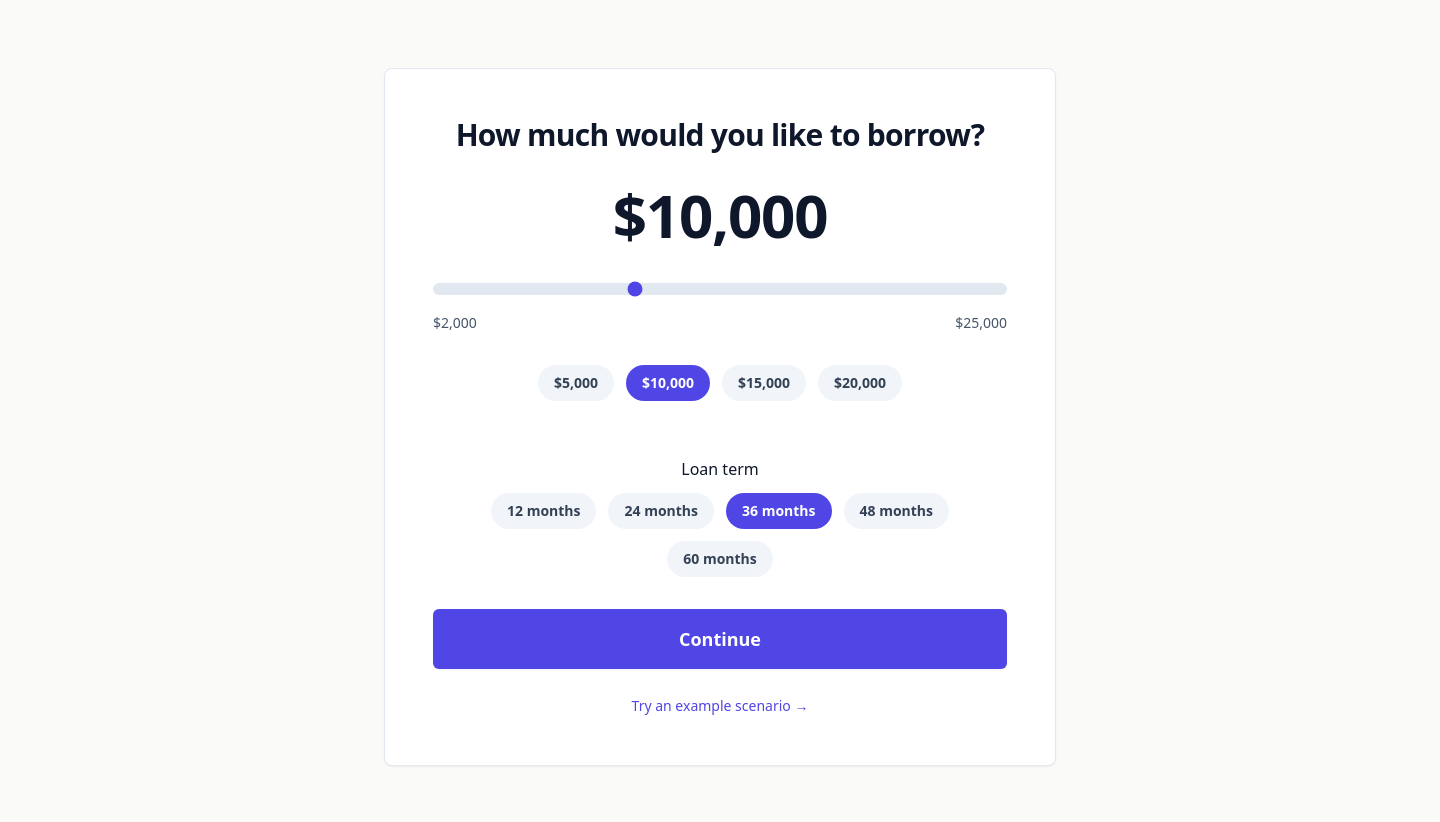
Test: LoanWizard › Step 2: FinancialDetailsStep › returns to step 1 when back button is clicked
What coordinates should you click on to do the following:
click the button "Continue"
I would click on:
 (720, 639)
Its box is top-left (433, 609), bottom-right (1007, 669).
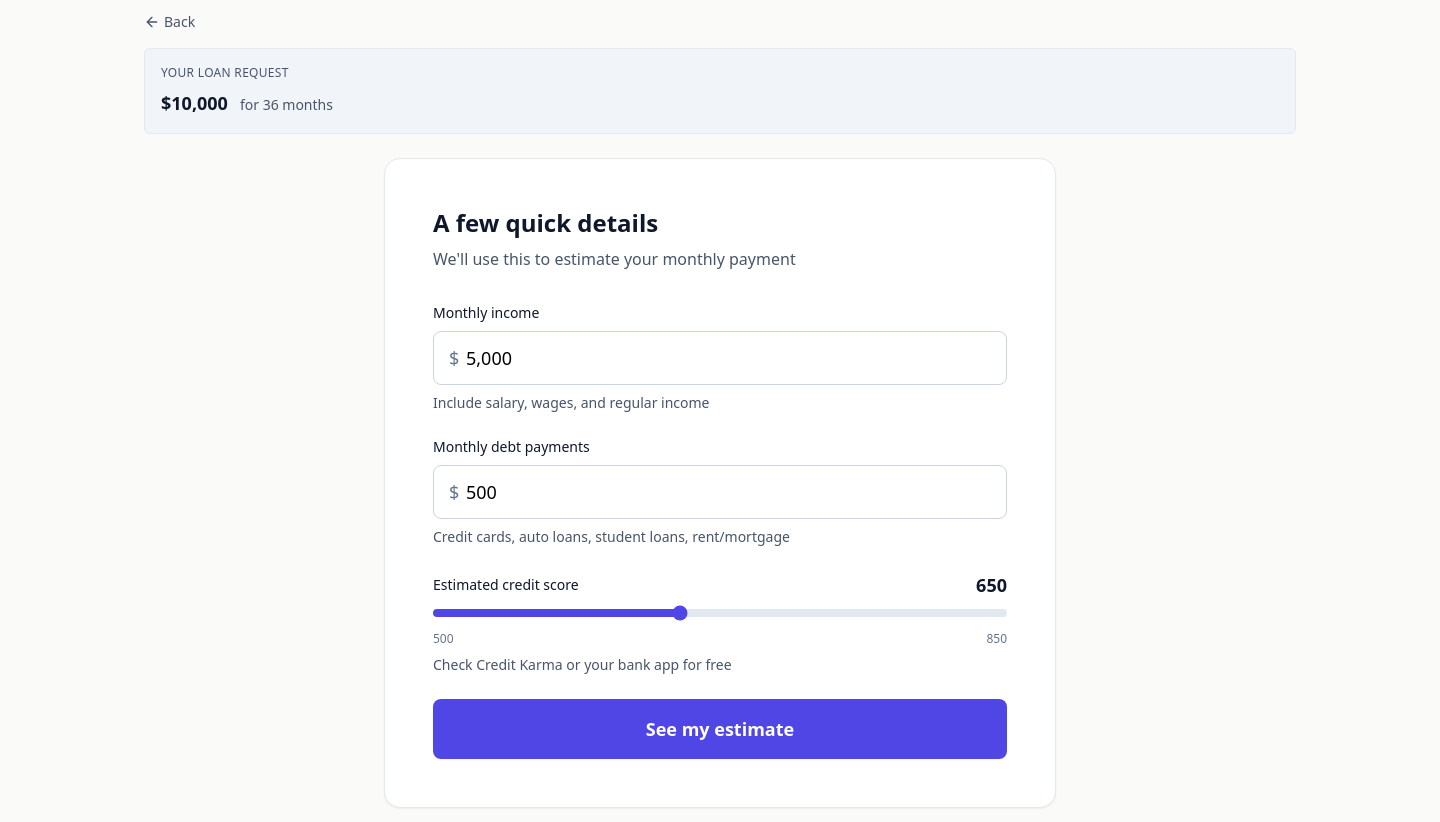
Expected: the heading "A few quick details" is shown, top-left (433, 206), bottom-right (658, 239)
What coordinates should you click on to do the following:
click the button "Back"
I would click on:
 (170, 22)
Its box is top-left (144, 12), bottom-right (195, 32).
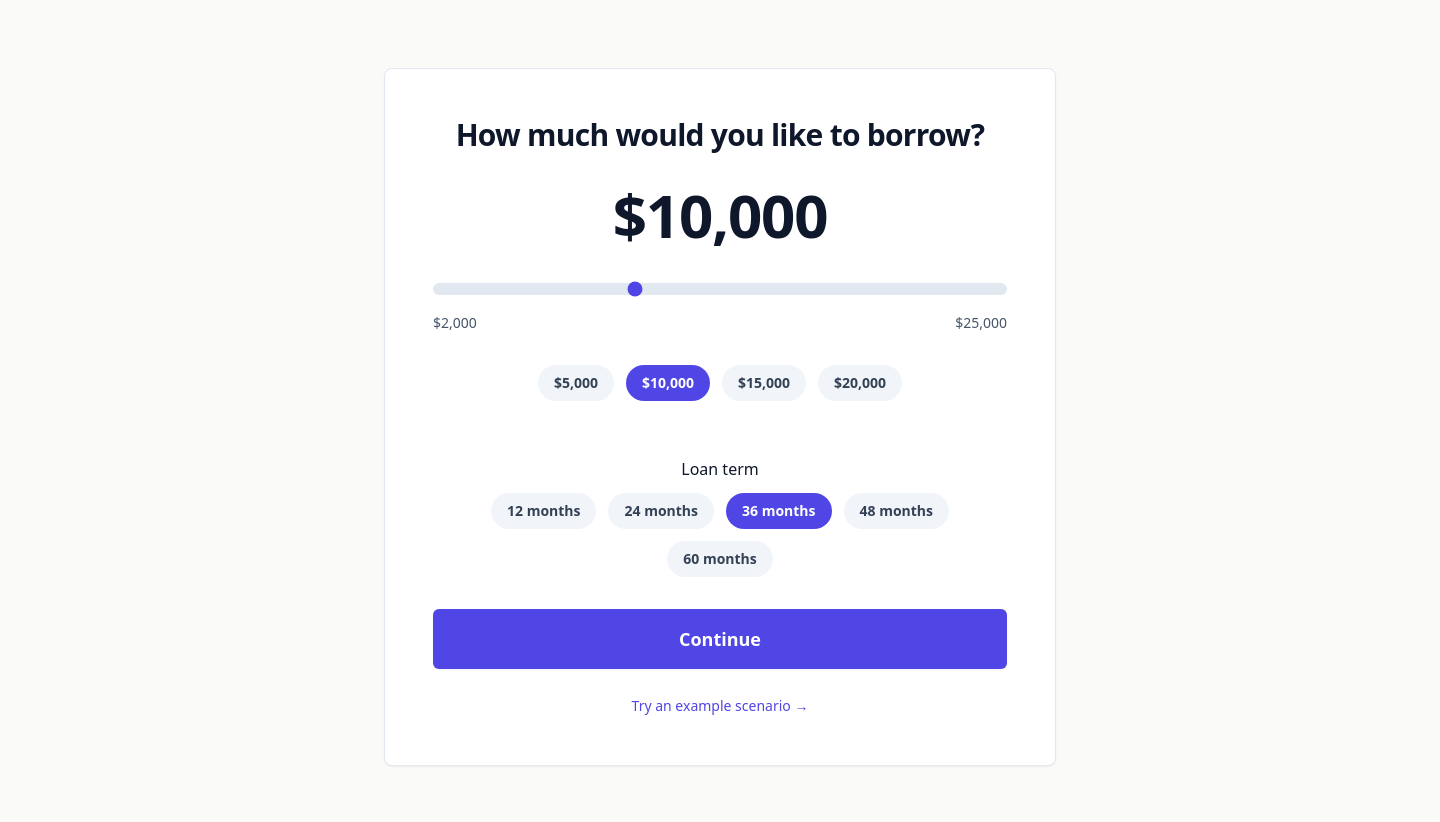
Expected: the heading "How much would you like to borrow?" is shown, top-left (433, 117), bottom-right (1007, 153)
